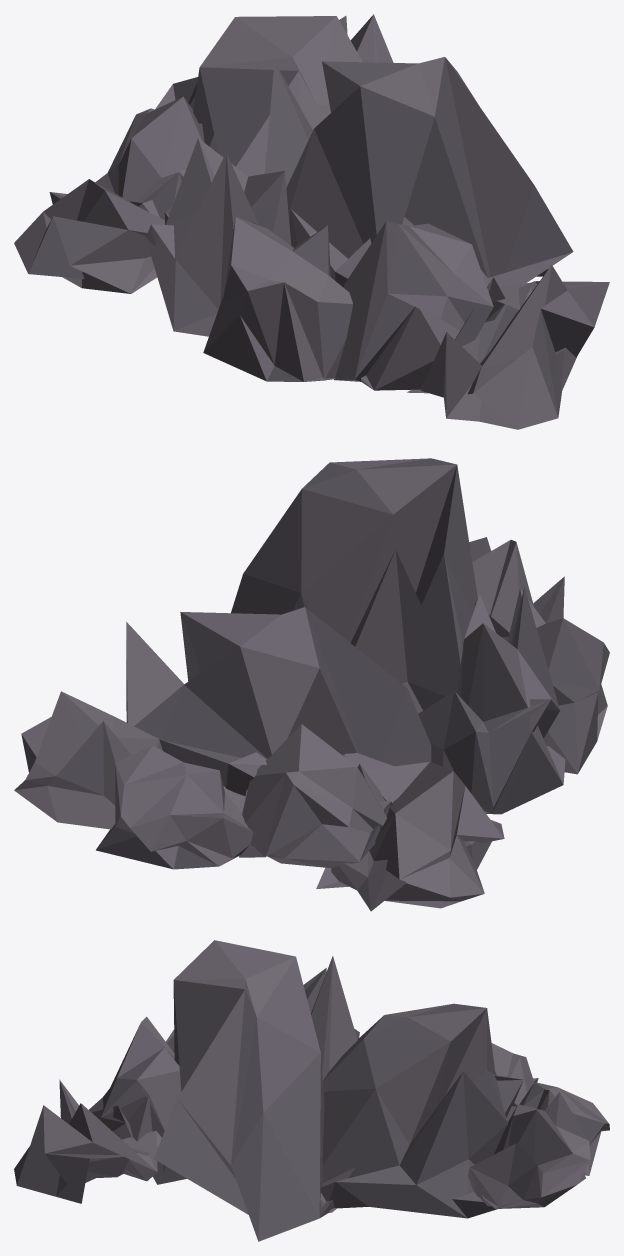
File: ROCKS_BACKGROUND.fbx
The picture shows the model from 3 angles, top to bottom: view 1: azimuth 30°, elevation 25°; view 2: azimuth 150°, elevation 25°; view 3: azimuth 270°, elevation 25°; orthographic projection. The views are drawn at different scales.
Parts seen in each view (by area): view 1: Icosphere.001, Icosphere.003; view 2: Icosphere.003, Icosphere.001; view 3: Icosphere.001, Icosphere.003.
Part boxes in pixels (box(x1,y1,x2,y2)): Icosphere.001: box(145, 57, 609, 429); Icosphere.003: box(14, 14, 393, 293); Icosphere.003: box(14, 607, 504, 911); Icosphere.001: box(231, 458, 609, 814); Icosphere.001: box(14, 940, 359, 1241); Icosphere.003: box(320, 1003, 609, 1218).
Size of the model in its own units: 2060 by 1262 by 3171.
